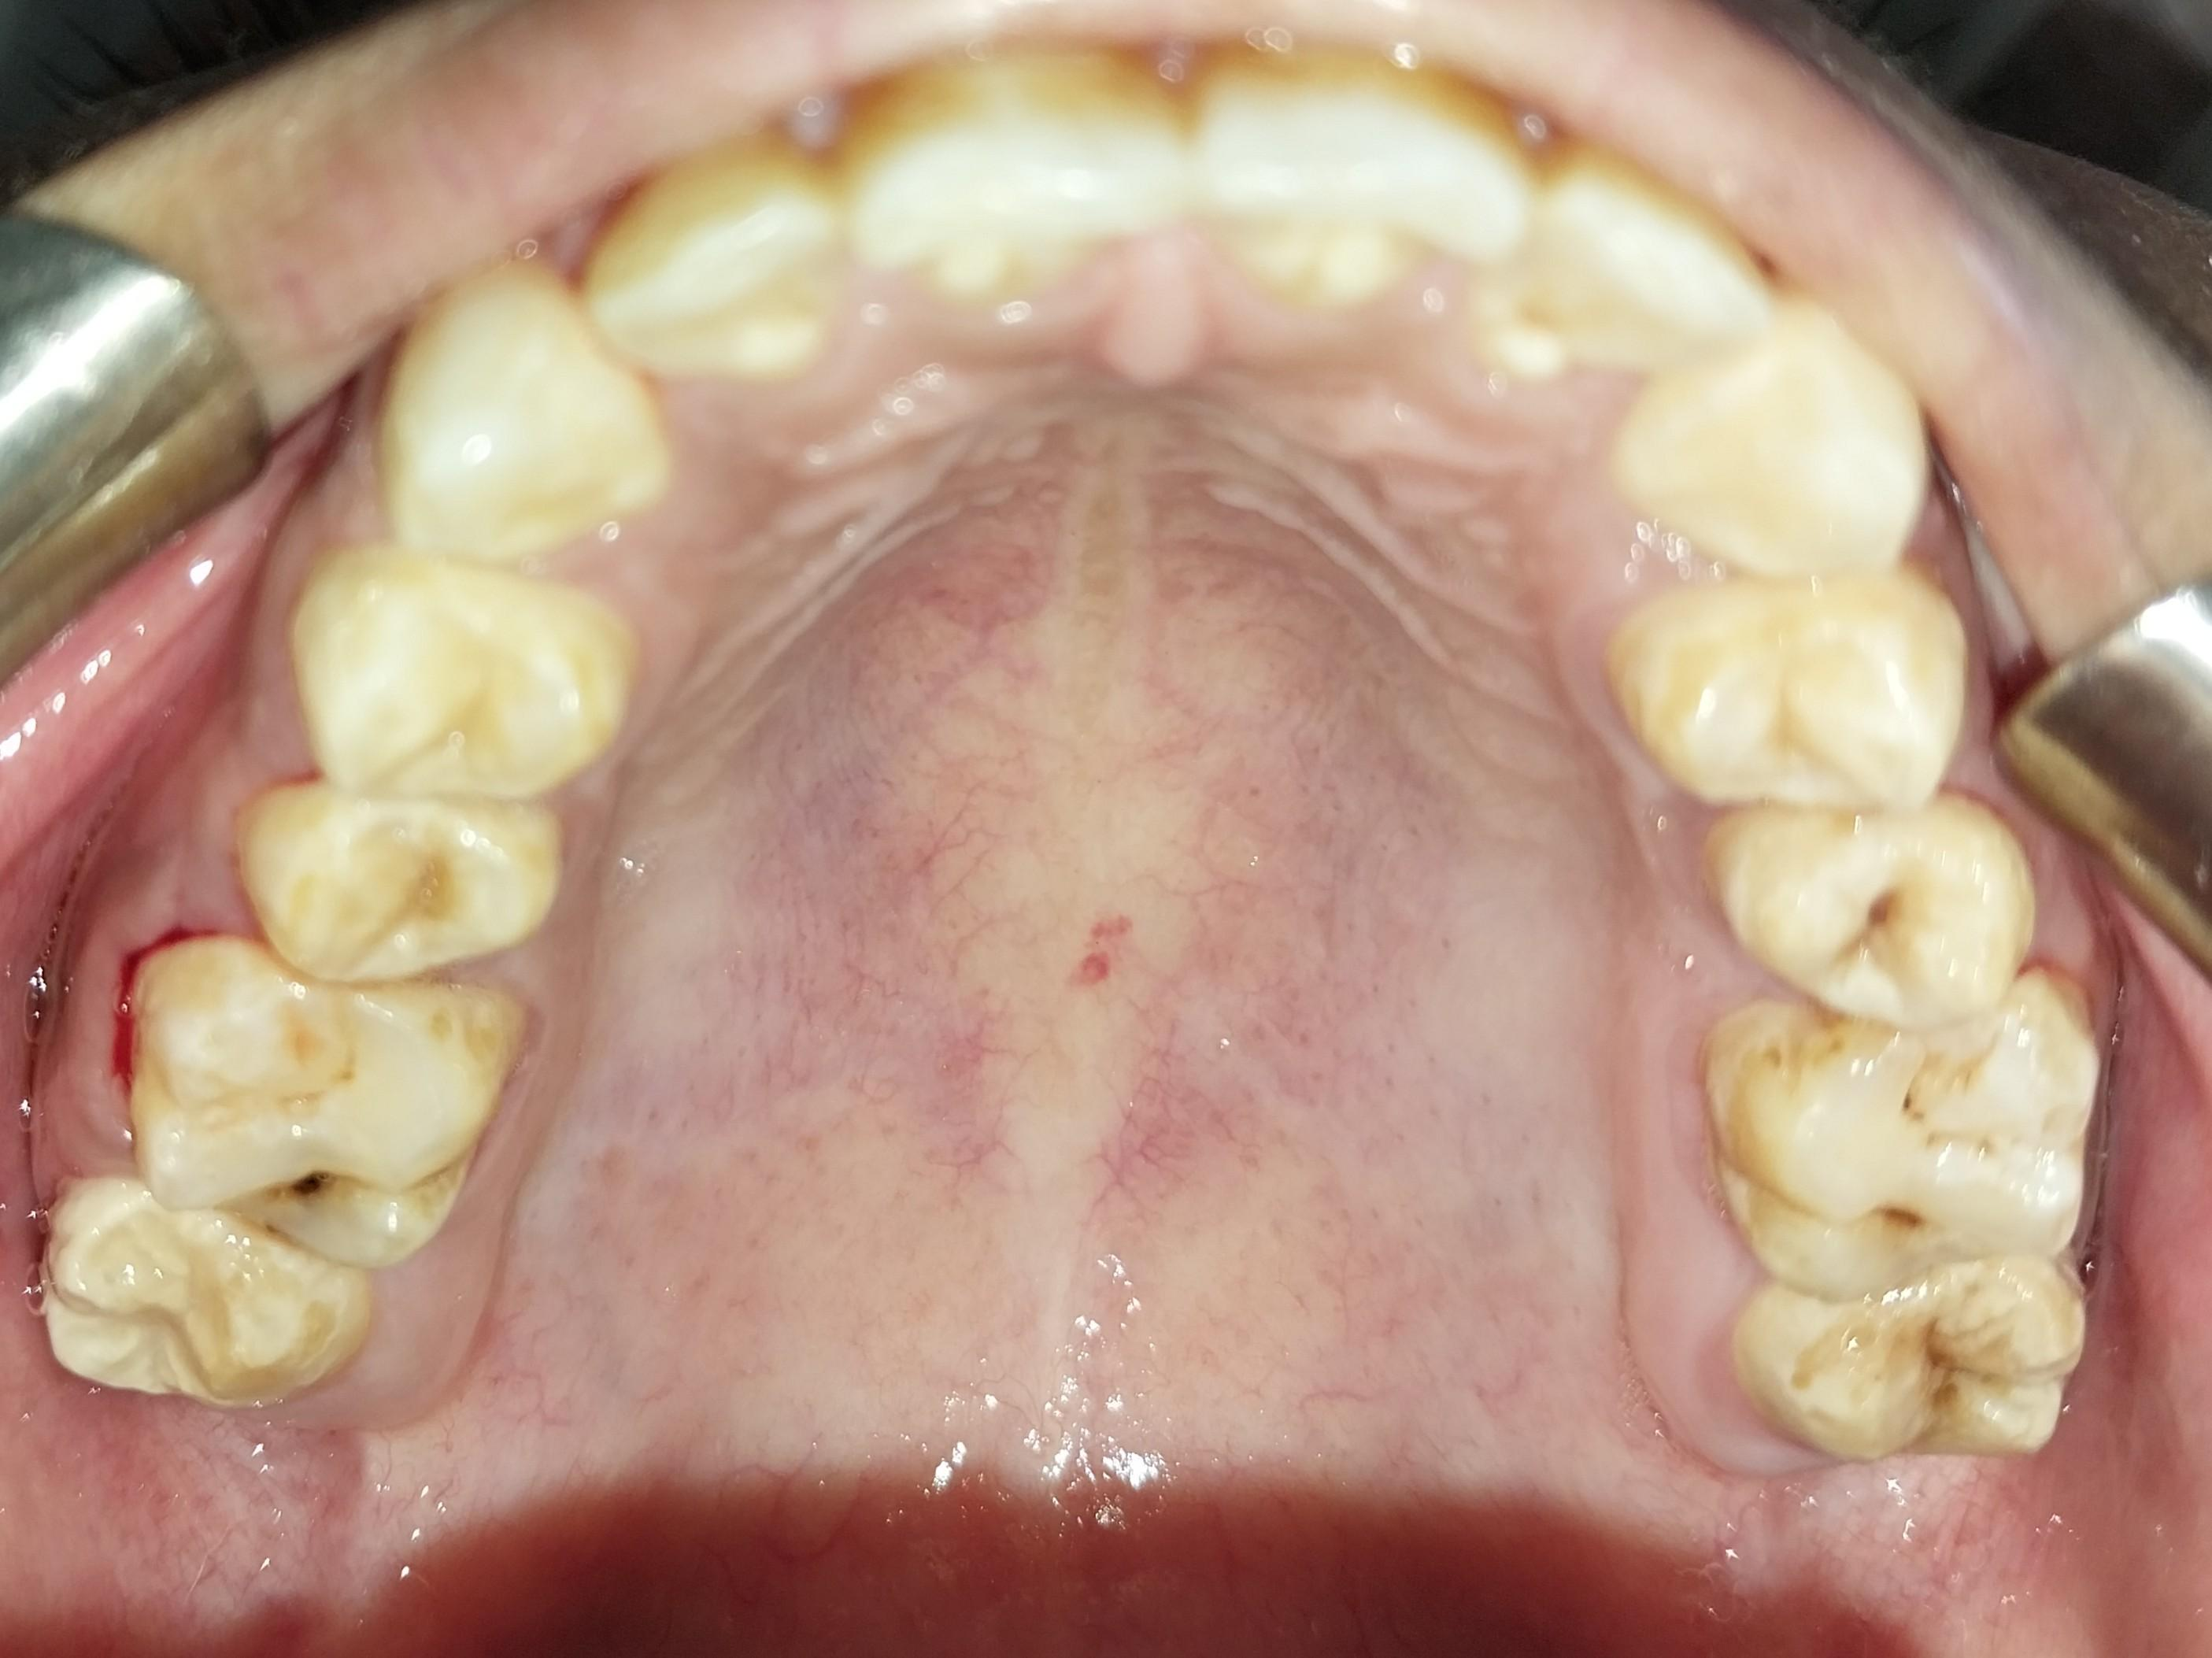D: (117, 931, 518, 1266), (1705, 979, 2099, 1296), (1713, 791, 2036, 1027), (1741, 1271, 2087, 1464)
